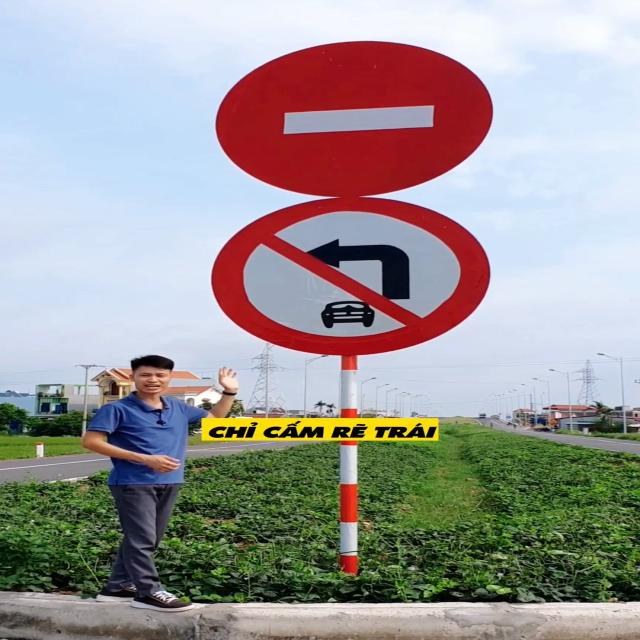bien_cam: (211, 192, 487, 348), (217, 42, 483, 195)
